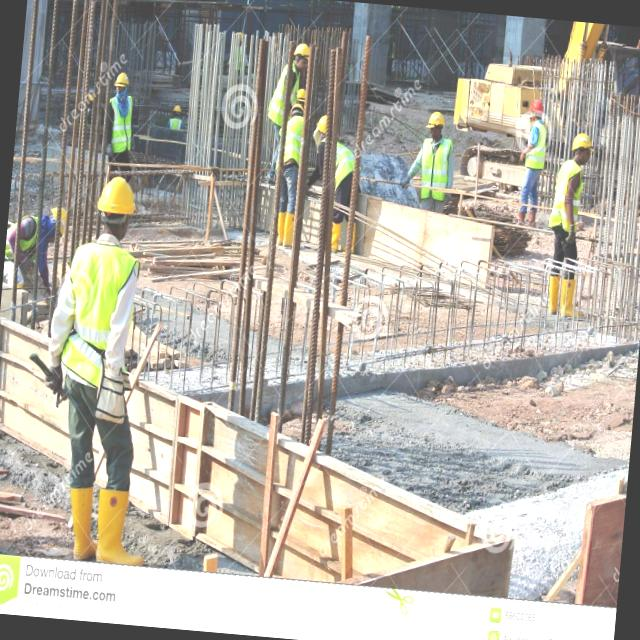helmet: (93, 172, 142, 223), (567, 126, 593, 156), (425, 106, 448, 132), (113, 65, 133, 90), (294, 36, 311, 62)
vest: (58, 232, 140, 390), (550, 153, 586, 238), (414, 135, 456, 205), (104, 93, 140, 157), (525, 116, 552, 176)
